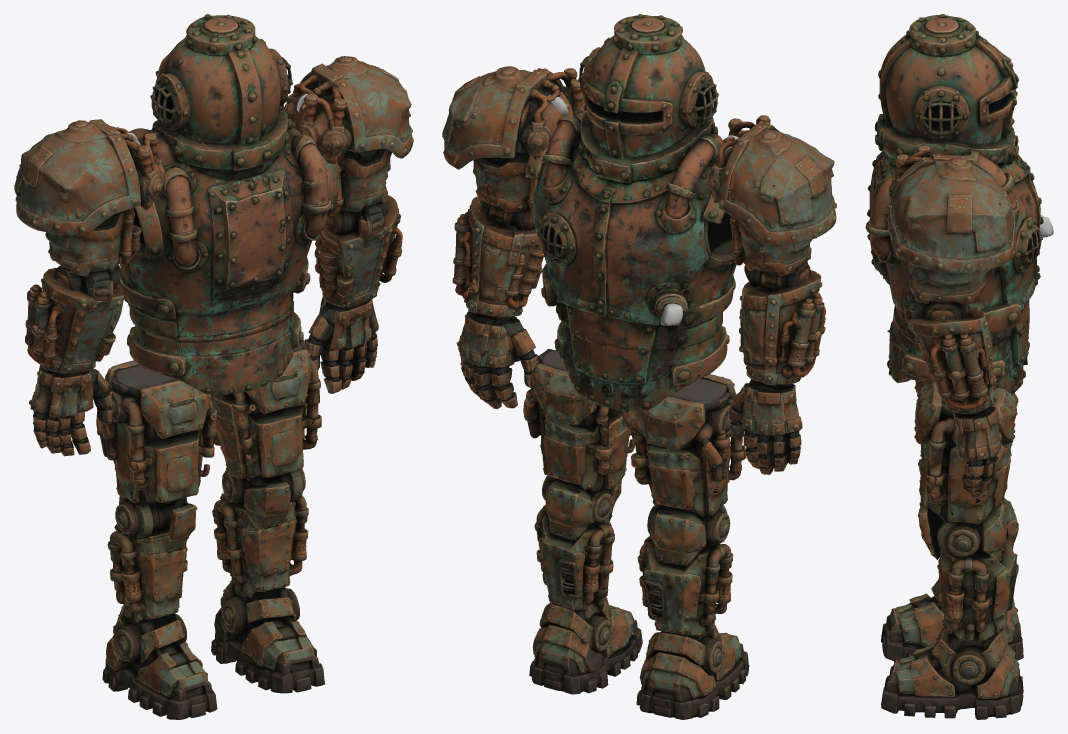
File: Gear_T04.glb
3 views of the same model, side by side, from view 1: azimuth 30°, elevation 25°; view 2: azimuth 150°, elevation 25°; view 3: azimuth 270°, elevation 25° (orthographic).
Parts seen in each view (by area): view 1: Torso_Upper, ArmL_Upper, LegL_Upper, Head, ArmR_Upper, LegR_Upper, LegR_Foot, LegL_Foot, ArmL_Lower, Torso_Lower, LegR_Lower, ArmR_Lower (+3 smaller); view 2: Torso_Upper, LegL_Upper, ArmL_Upper, ArmR_Upper, Head, LegR_Upper, ArmL_Lower, ArmR_Lower, Torso_Lower, LegR_Foot, LegL_Foot, LegL_Lower (+3 smaller); view 3: ArmR_Upper, Torso_Upper, Head, LegR_Upper, LegR_Foot, ArmR_Lower, LegR_Lower, LegL_Foot, Torso_Lower, ArmR_Hand, LegL_Lower.
Boxes of the visible parts, x1,y1,x2,y2 form: Torso_Upper: [118, 93, 339, 343]; ArmL_Upper: [14, 119, 165, 282]; LegL_Upper: [96, 360, 216, 541]; Head: [150, 14, 292, 135]; ArmR_Upper: [284, 56, 413, 216]; LegR_Upper: [211, 340, 321, 516]; LegR_Foot: [211, 581, 324, 693]; LegL_Foot: [102, 606, 217, 719]; ArmL_Lower: [25, 265, 124, 373]; Torso_Lower: [127, 310, 303, 394]; LegR_Lower: [212, 493, 308, 594]; ArmR_Lower: [314, 195, 402, 307]; Torso_Upper: [525, 95, 738, 352]; LegL_Upper: [622, 374, 745, 553]; ArmL_Upper: [707, 115, 836, 276]; ArmR_Upper: [442, 66, 586, 213]; Head: [578, 14, 718, 137]; LegR_Upper: [523, 349, 634, 527]; ArmL_Lower: [739, 261, 825, 393]; ArmR_Lower: [452, 196, 544, 323]; Torso_Lower: [554, 321, 729, 410]; LegR_Foot: [529, 597, 642, 694]; LegL_Foot: [636, 625, 749, 719]; LegL_Lower: [637, 536, 733, 639]; ArmR_Upper: [887, 145, 1017, 311]; Torso_Upper: [865, 114, 1053, 345]; Head: [878, 14, 1018, 137]; LegR_Upper: [914, 382, 1018, 559]; LegR_Foot: [881, 627, 1023, 719]; ArmR_Lower: [903, 297, 996, 416]; LegR_Lower: [926, 536, 1018, 641]; LegL_Foot: [881, 578, 1023, 661]; Torso_Lower: [887, 313, 1029, 393]; ArmR_Hand: [952, 405, 1001, 498]; LegL_Lower: [1002, 497, 1018, 549].
Size of the model in its own units: 3.76 by 6.25 by 1.63.
Materials: 3 (3 with a texture image).
